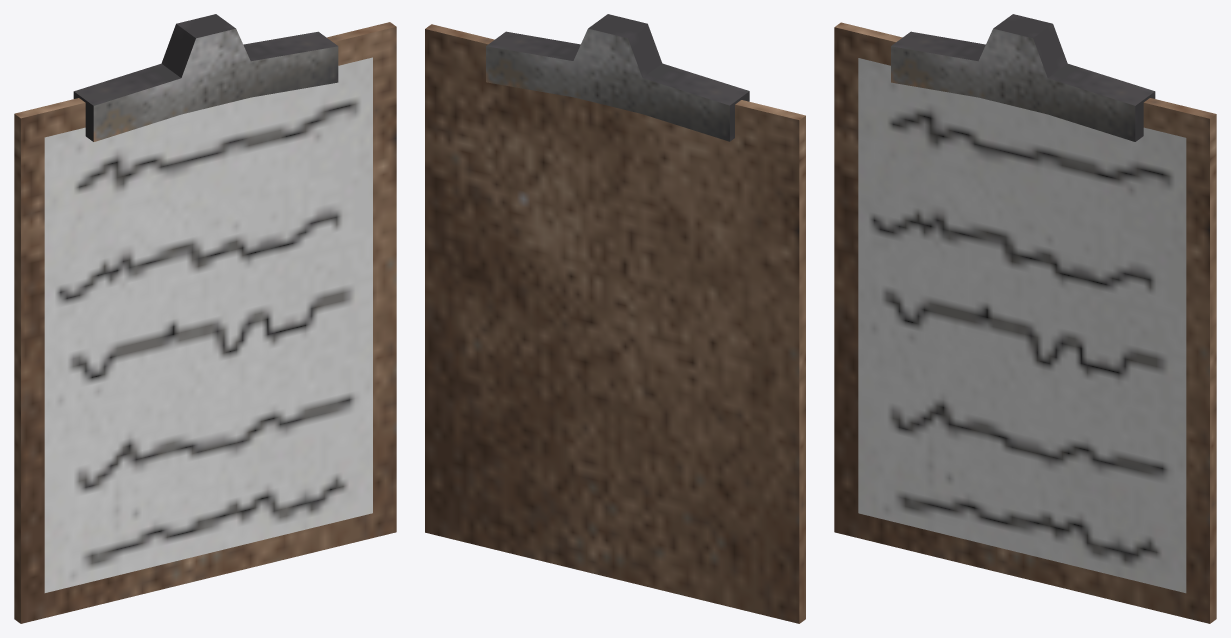
The model's file is Document.fbx.
The picture shows the model from 3 angles, left to right: view 1: azimuth 30°, elevation 25°; view 2: azimuth 150°, elevation 25°; view 3: azimuth 330°, elevation 25°; orthographic projection.
Visible parts, largest first — view 1: polySurface4; view 2: polySurface4; view 3: polySurface4.
Boxes of the visible parts, <box> form: polySurface4: <box>14,14,396,623</box>; polySurface4: <box>425,14,805,623</box>; polySurface4: <box>834,14,1216,623</box>.
Bounding box in the file's own units: 0.2657 × 0.0245 × 0.3722.
Materials: 1 (1 with a texture image).
